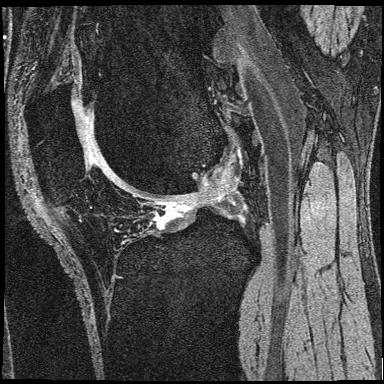SagKneeJointArea: (23, 81, 262, 308)
